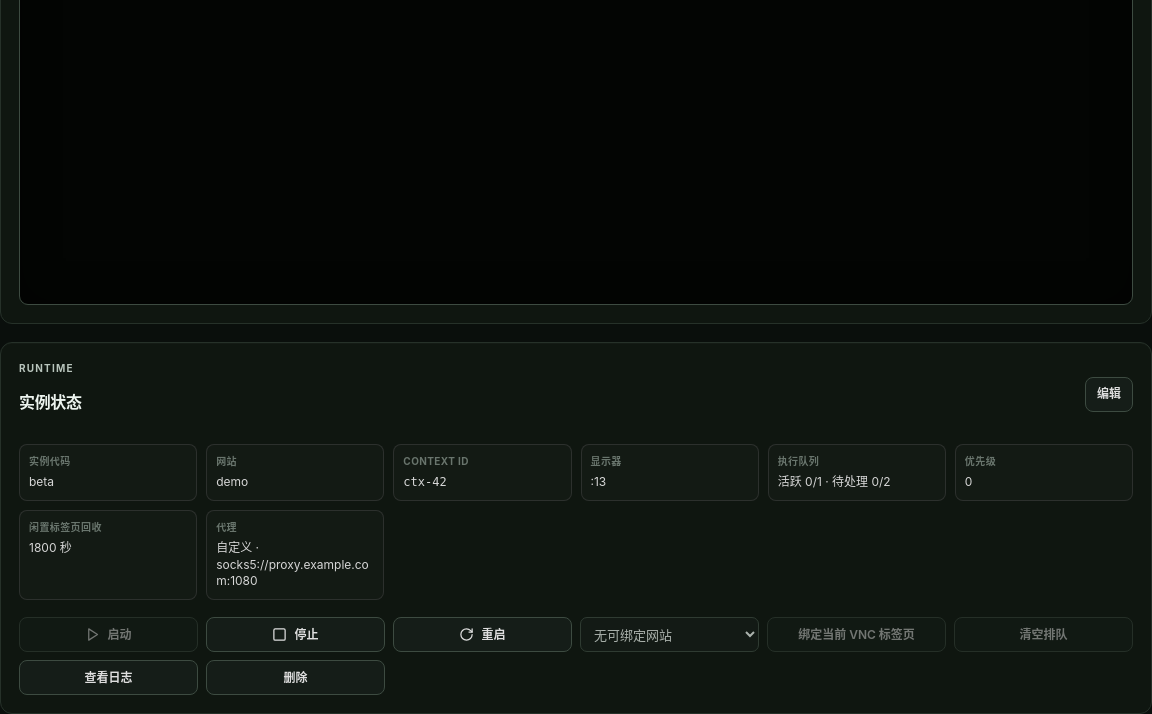
Test case: InstanceDetailPage › validates concurrency and queue limits when editing an instance
(page scrolled)
Click the button "编辑" at (1109, 394), box left=1085, top=377, right=1133, bottom=412
(page scrolled)
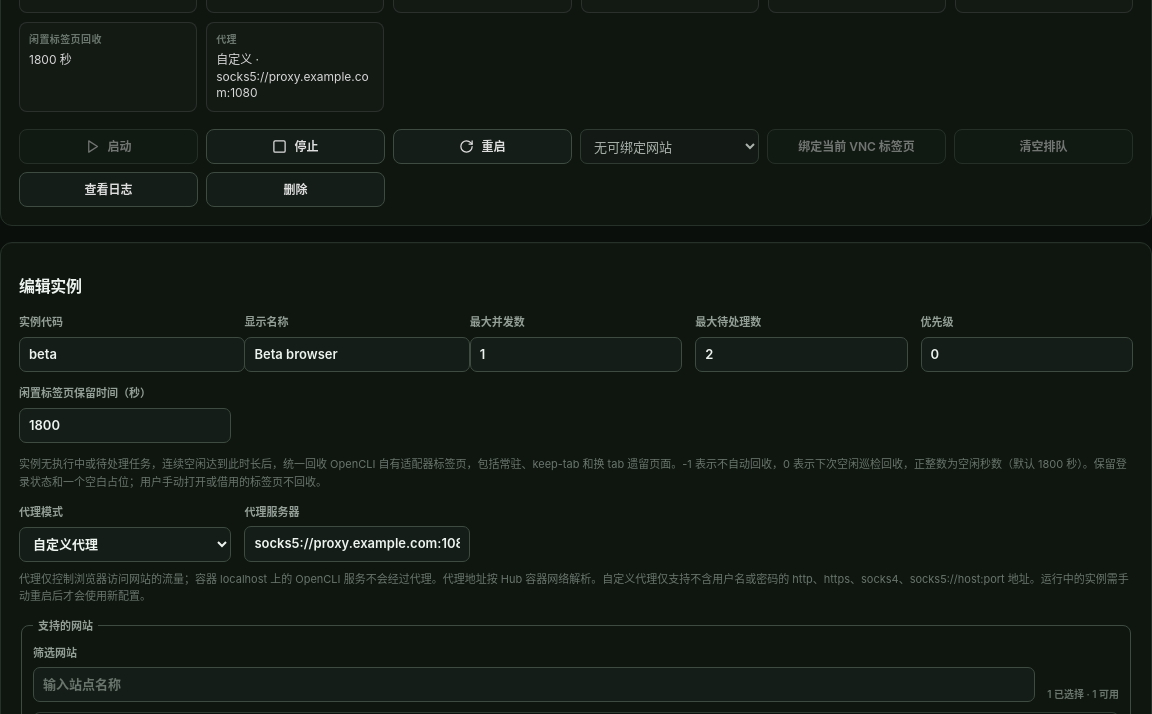
Replace the text in the number field labelled "最大并发数" with "0" at (576, 355), box left=470, top=337, right=682, bottom=372
(page scrolled)
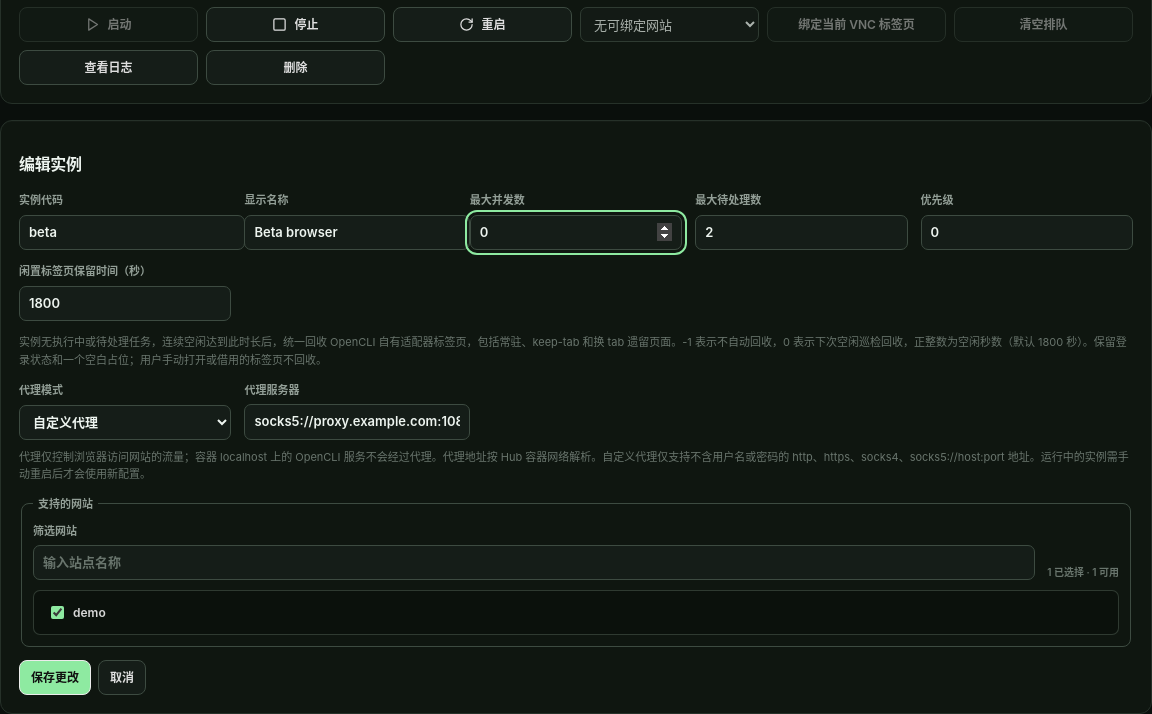
Click the button "保存更改" at (55, 678), box left=19, top=660, right=91, bottom=695
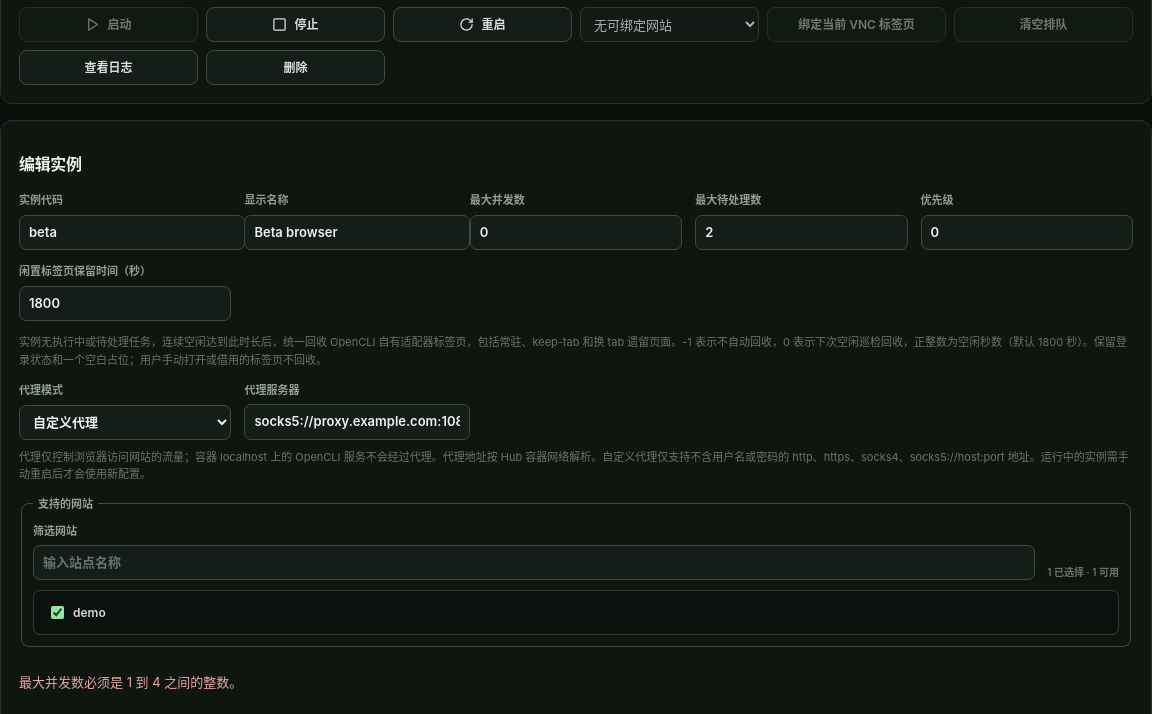
Expected: the message shows "1 到 4", left=19, top=674, right=242, bottom=690
Replace the text in the number field labelled "最大并发数" with "2" at (576, 233), box left=470, top=215, right=682, bottom=250
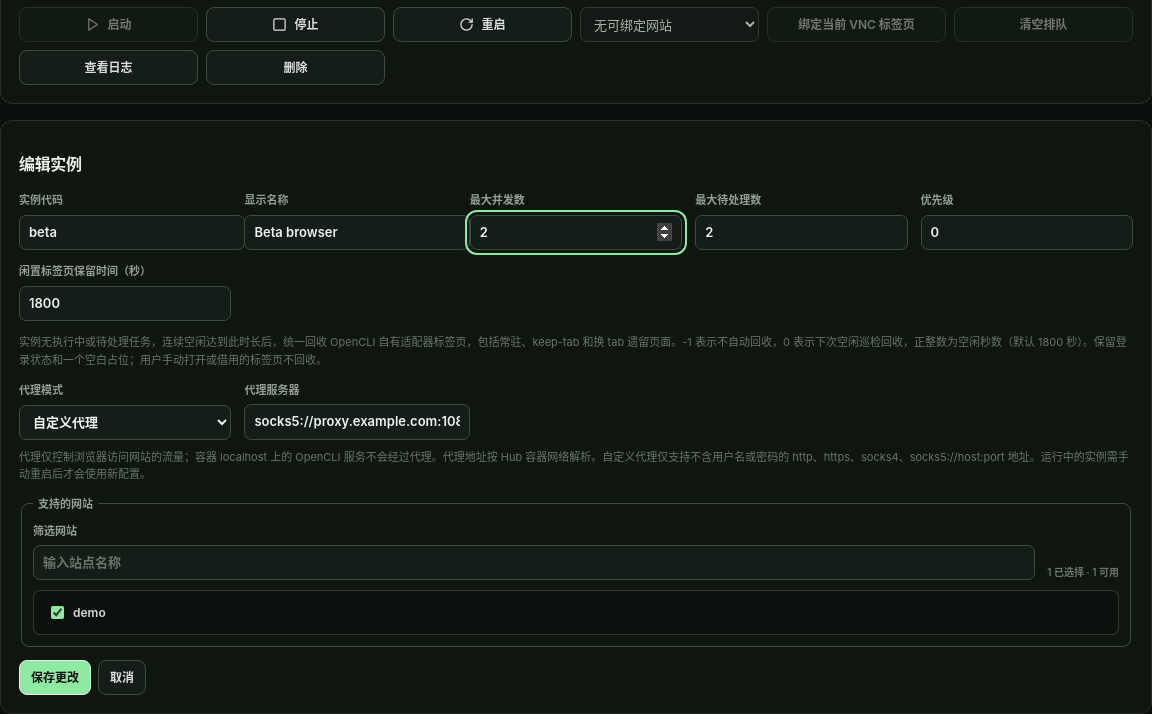
Replace the text in the number field labelled "最大待处理数" with "55" at (801, 233), box left=695, top=215, right=908, bottom=250
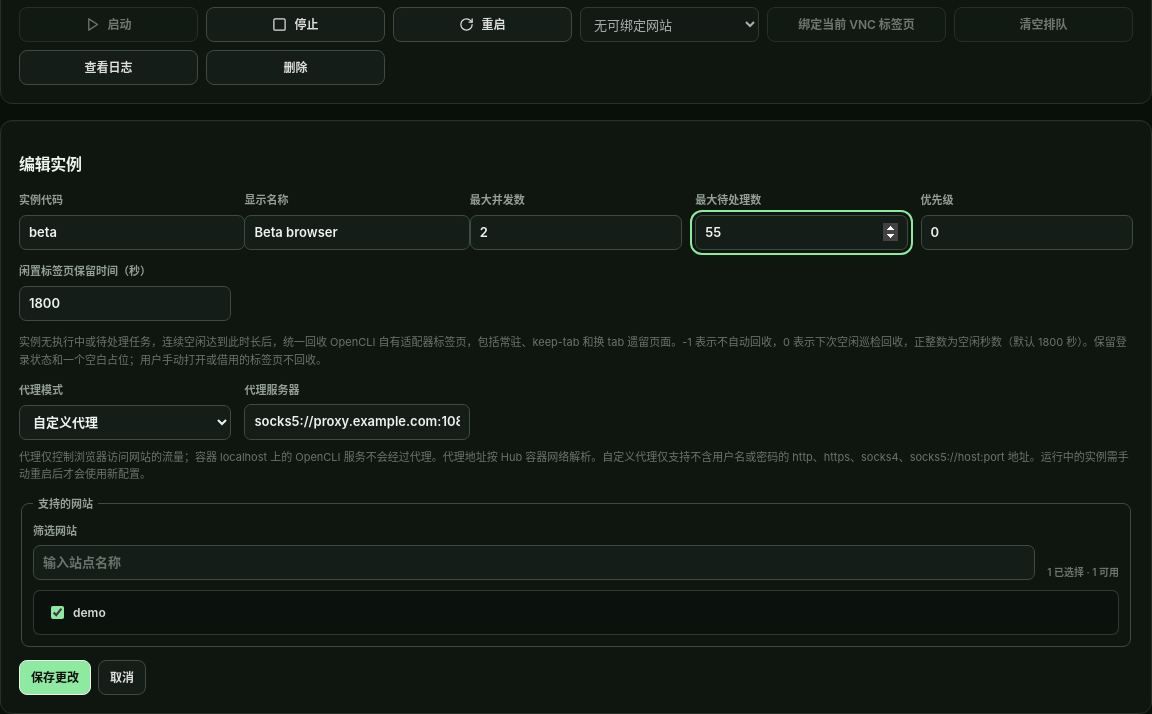
Click the button "保存更改" at (55, 678), box left=19, top=660, right=91, bottom=695
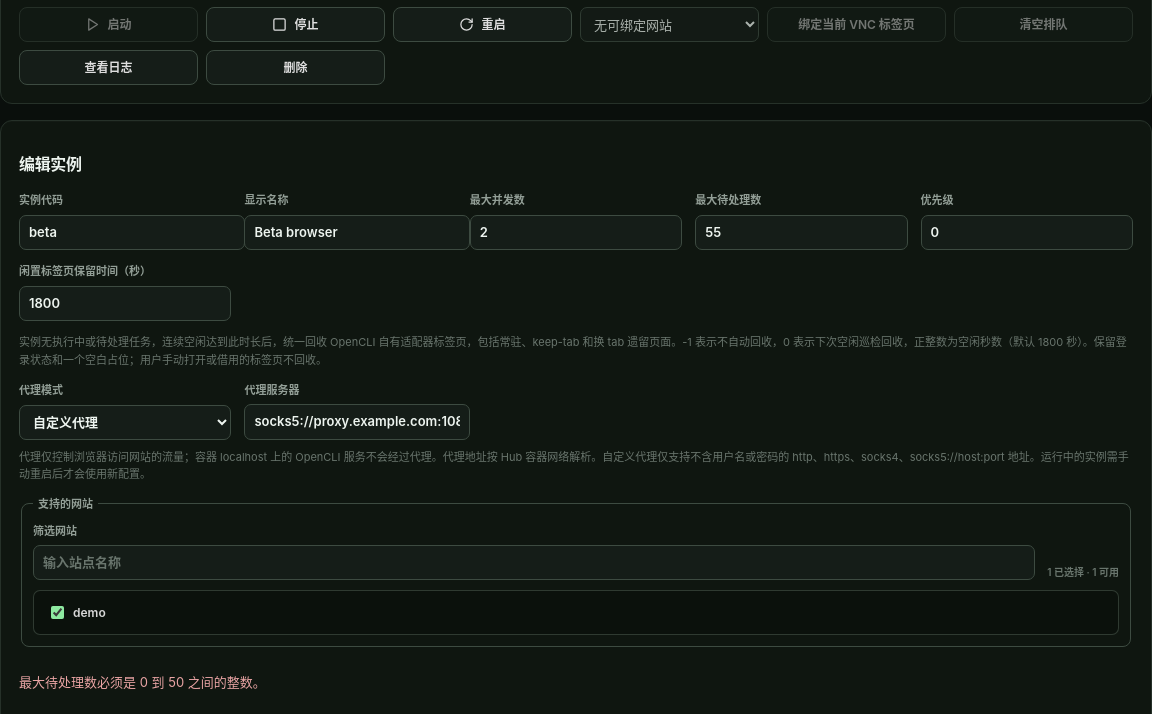
Expected: the message shows "0 到 50", left=19, top=674, right=266, bottom=690
